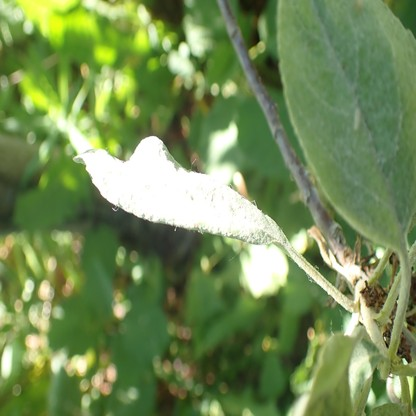powdery_mildew: (292, 0, 415, 236)
